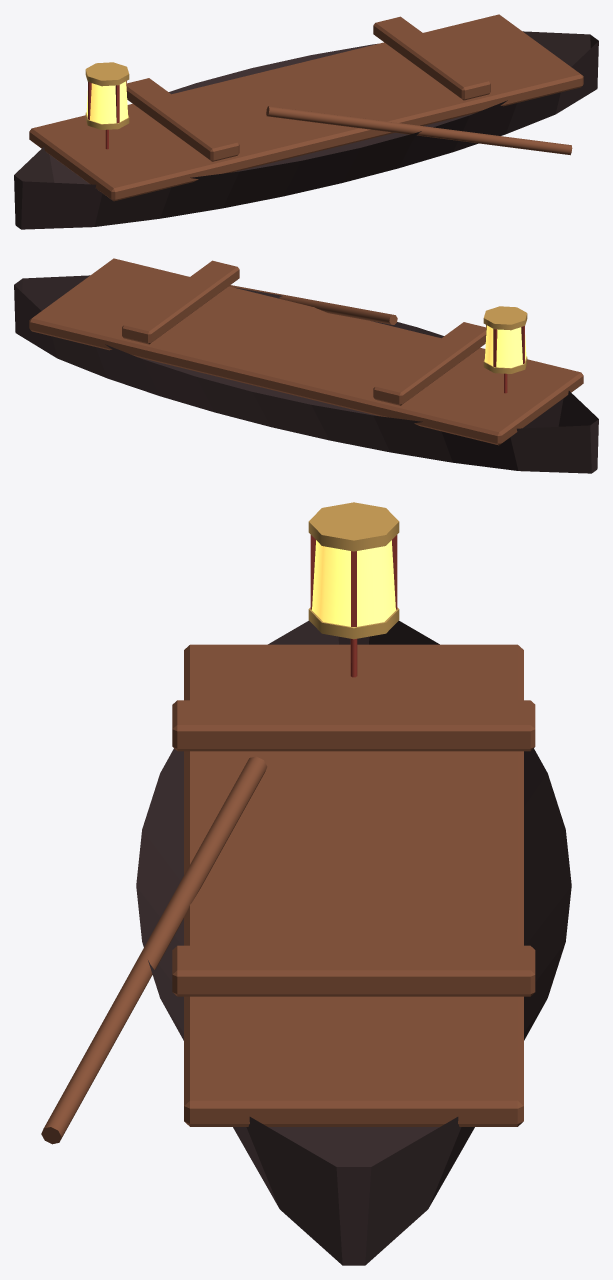
The model's file is model-skiff.glb.
The picture shows the model from 3 angles, top to bottom: view 1: azimuth 30°, elevation 25°; view 2: azimuth 150°, elevation 25°; view 3: azimuth 270°, elevation 25°; orthographic projection. The views are drawn at different scales.
Visible parts, largest first — view 1: model-skiff; view 2: model-skiff; view 3: model-skiff.
Boxes of the visible parts, x1,y1,x2,y2 form: model-skiff: (14, 14, 598, 229); model-skiff: (14, 258, 598, 473); model-skiff: (41, 502, 571, 1265).
Bounding box in the file's own units: 5.5 × 1.23 × 2.19.
